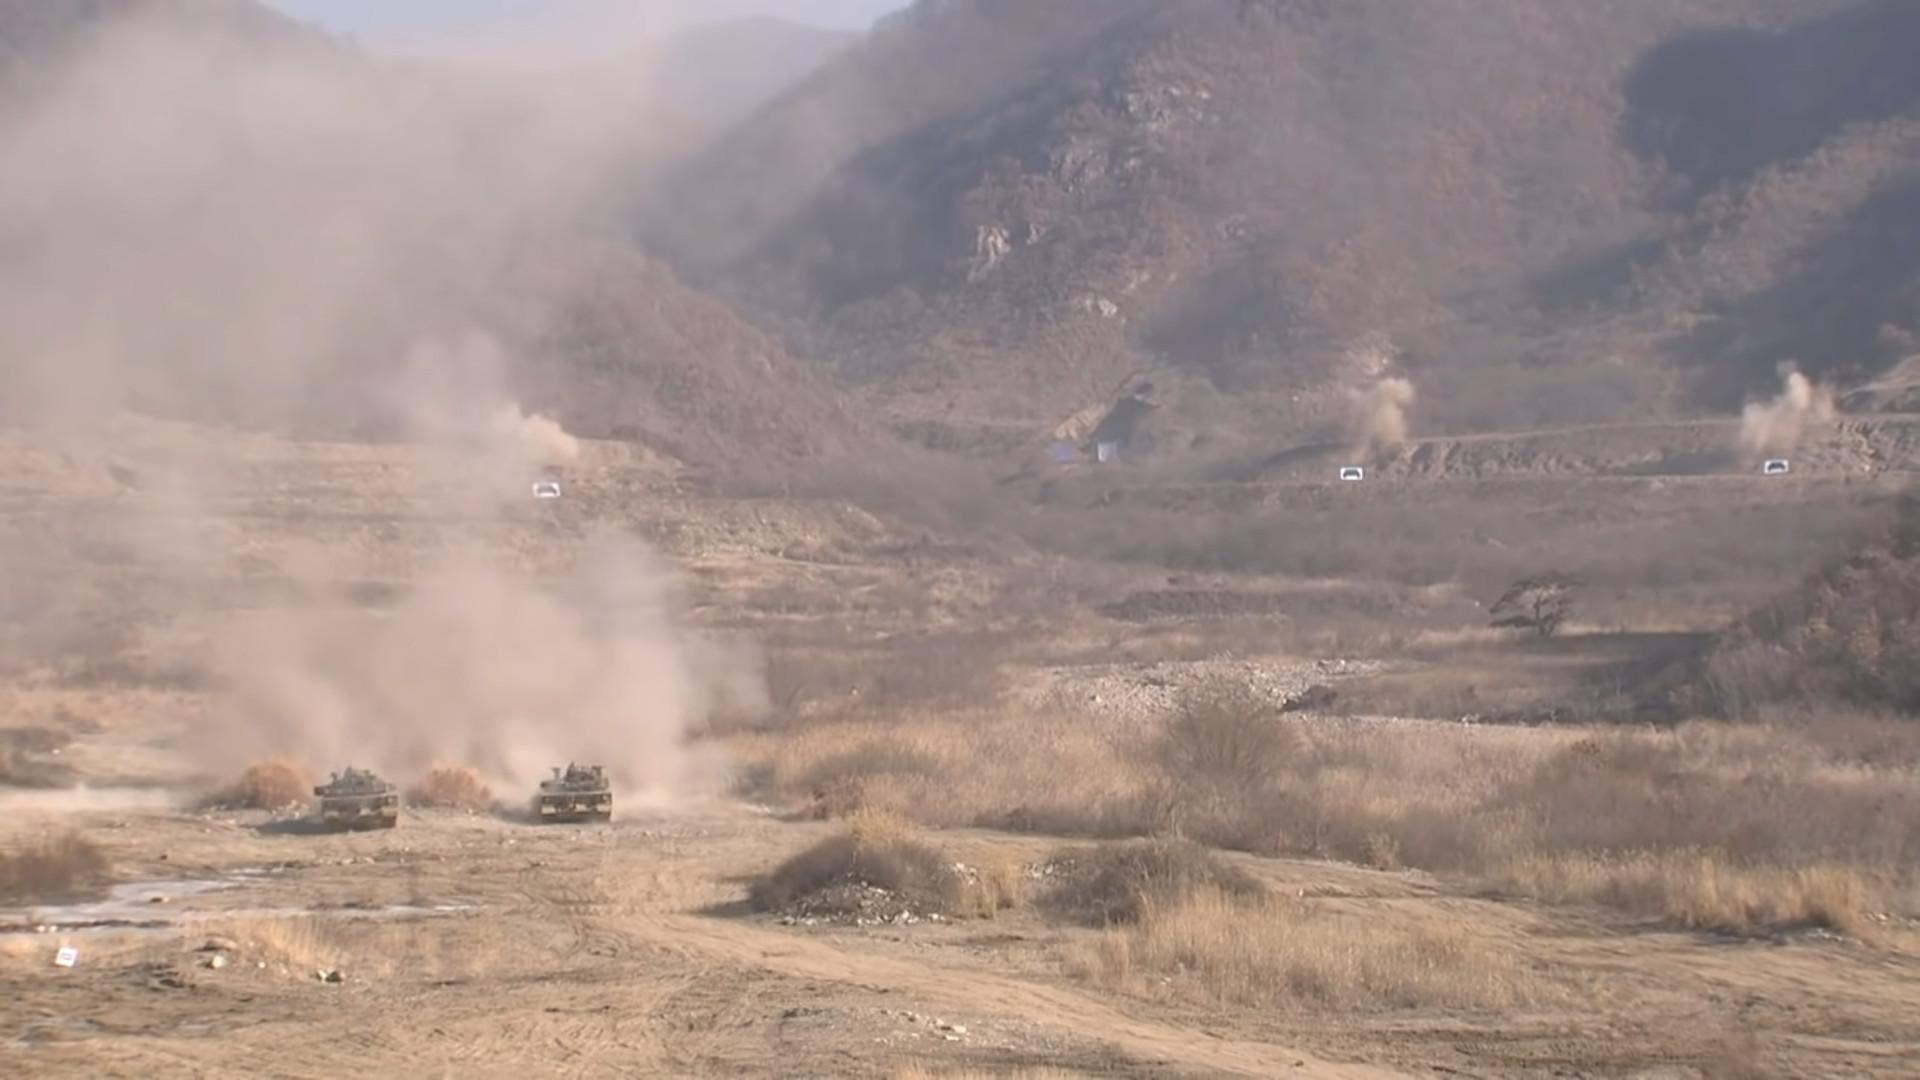tank: (314, 767, 400, 832), (536, 761, 612, 821)
